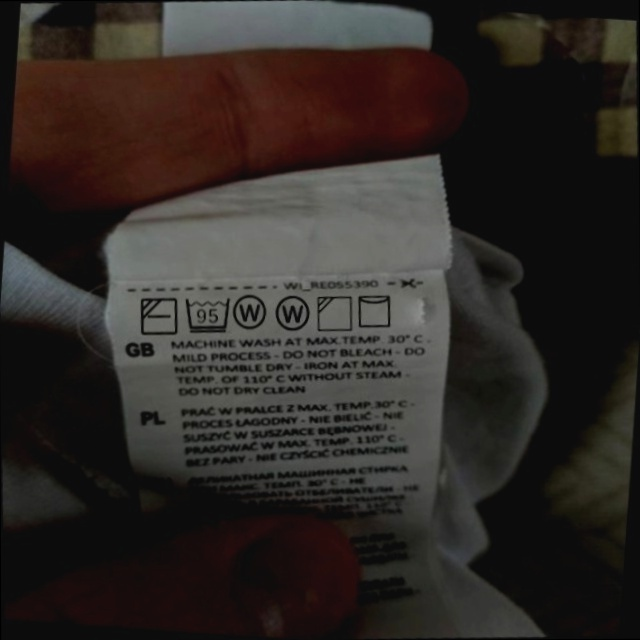95C: (181, 292, 235, 337)
dry_flat_in_shade: (136, 292, 181, 340)
line_dry: (353, 288, 398, 332)
shade_dry: (313, 291, 357, 336)
wet_clean: (272, 292, 314, 336), (231, 288, 272, 333)
